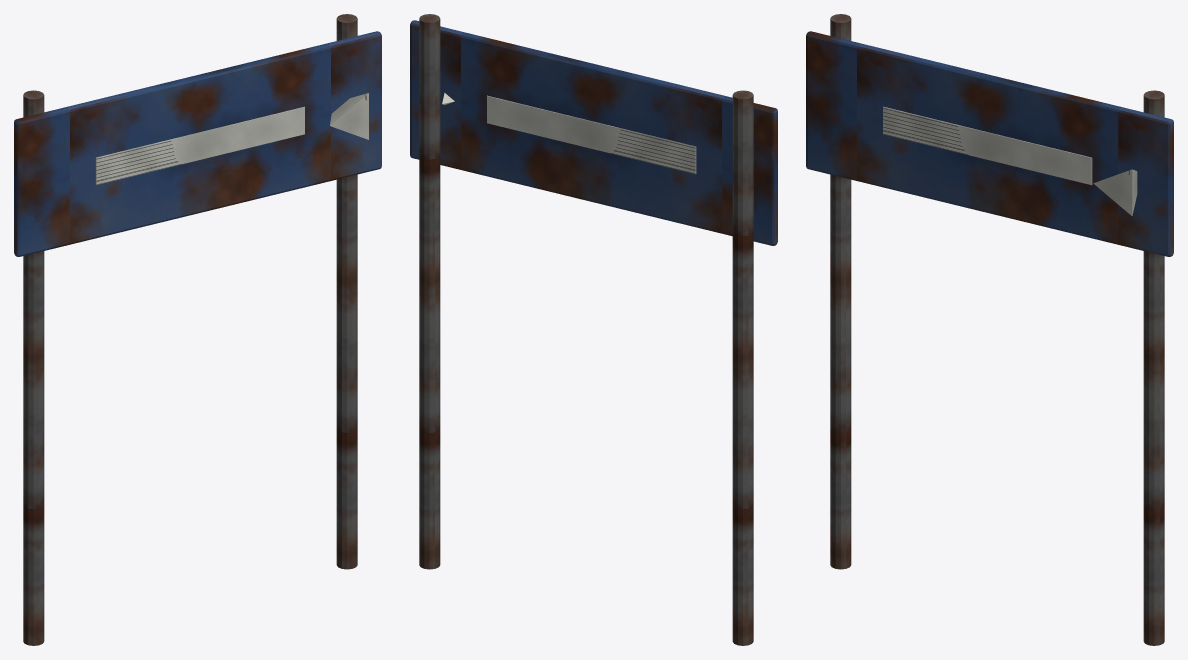
Rendered from ST18_UnderpassSign.glb.
The picture shows the model from 3 angles, left to right: view 1: azimuth 30°, elevation 25°; view 2: azimuth 150°, elevation 25°; view 3: azimuth 330°, elevation 25°; orthographic projection.
Visible parts, largest first — view 1: ST18_UnderpassSign; view 2: ST18_UnderpassSign; view 3: ST18_UnderpassSign.
Part boxes in pixels (left/top/right/bottom): ST18_UnderpassSign: left=14, top=14, right=381, bottom=645; ST18_UnderpassSign: left=410, top=14, right=777, bottom=645; ST18_UnderpassSign: left=806, top=14, right=1173, bottom=645.
Bounding box in the file's own units: 1.4 × 2 × 0.18.
Materials: 3 (3 with a texture image).
